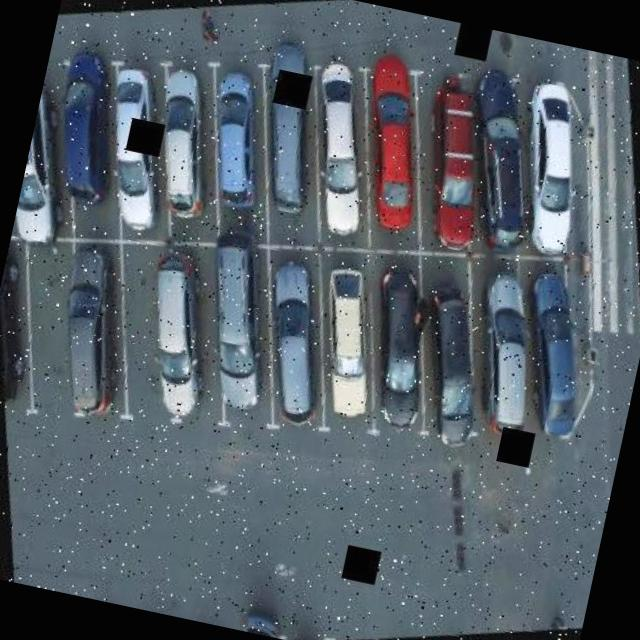car: (473, 44, 640, 275), (314, 35, 478, 268), (264, 22, 420, 260), (370, 46, 532, 275), (418, 47, 578, 274), (214, 21, 362, 242), (428, 252, 574, 476), (491, 252, 632, 472), (175, 226, 314, 447), (284, 242, 422, 460), (226, 234, 362, 451), (14, 30, 148, 237), (116, 230, 246, 441), (382, 258, 517, 461), (332, 251, 460, 461), (67, 47, 198, 251), (30, 231, 160, 435), (120, 49, 246, 244), (177, 54, 300, 232), (8, 54, 99, 260), (0, 241, 70, 426)
free: (82, 239, 200, 436), (0, 234, 116, 427)
